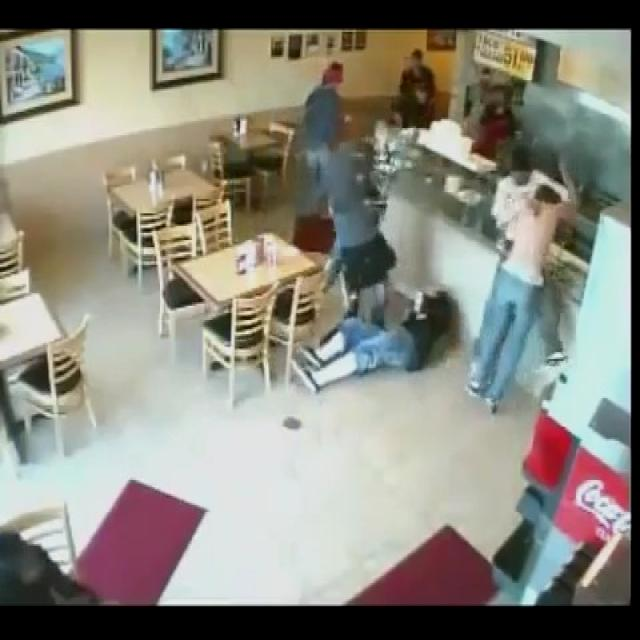fight: (276, 101, 489, 406), (476, 149, 577, 424)
